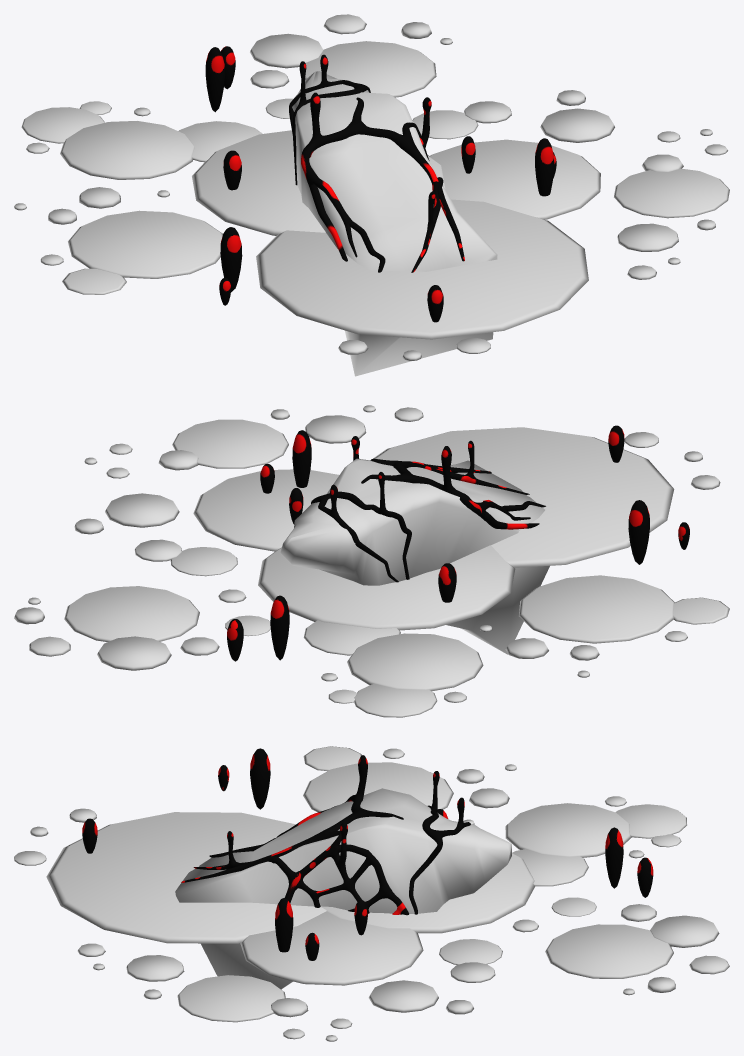
The model's file is CorruptionSet_3.fbx.
3 views of the same model, one above another, from view 1: azimuth 30°, elevation 25°; view 2: azimuth 150°, elevation 25°; view 3: azimuth 270°, elevation 25° (orthographic). The views are drawn at different scales.
Parts seen in each view (by area): view 1: Circles, Column, Wrap1, Blobs; view 2: Circles, Column, Blobs, Wrap1; view 3: Circles, Column, Wrap1, Blobs.
Boxes of the visible parts, x1,y1,x2,y2 form: Circles: (14,14,729,360); Column: (289,71,497,376); Wrap1: (289,54,464,272); Blobs: (205,46,556,322); Circles: (14,405,729,717); Column: (280,458,549,654); Blobs: (227,425,689,661); Wrap1: (311,436,545,582); Circles: (14,746,729,1041); Column: (175,788,511,989); Wrap1: (181,755,470,915); Blobs: (82,748,653,960).
Size of the model in its own units: 739 by 267 by 757.
